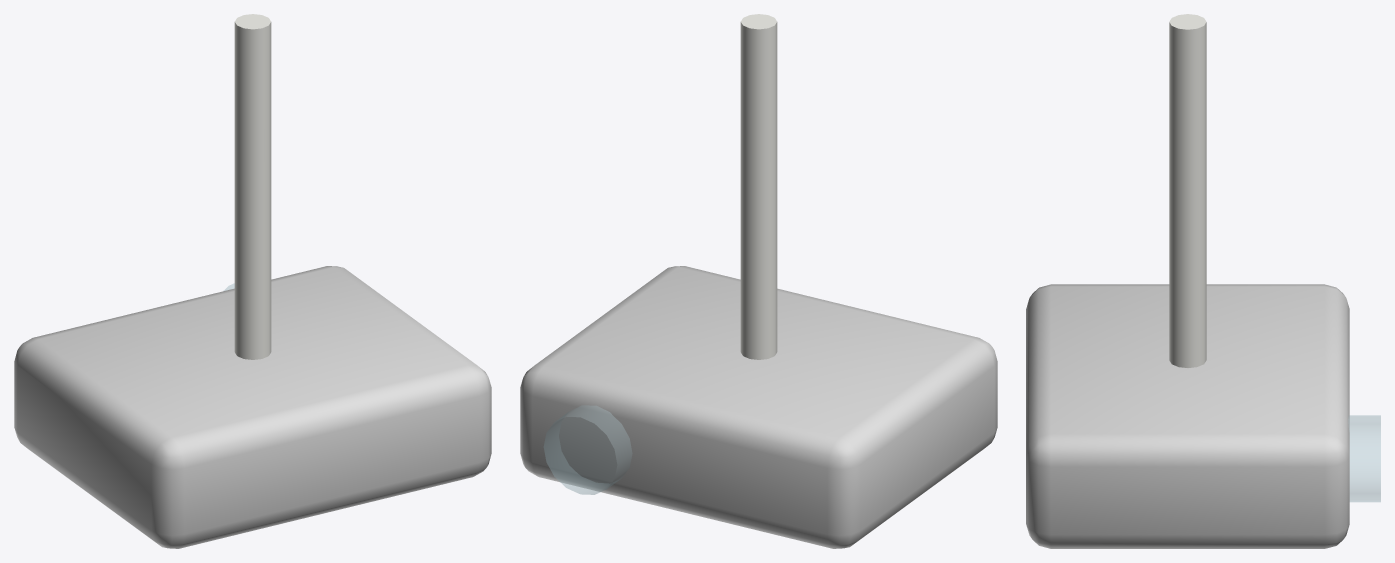
Rendered from school.av.projector.glb.
3 views of the same model, side by side, from view 1: azimuth 30°, elevation 25°; view 2: azimuth 150°, elevation 25°; view 3: azimuth 270°, elevation 25° (orthographic). The views are drawn at different scales.
Parts seen in each view (by area): view 1: main__plastic_white, main__paint_white; view 2: main__plastic_white, main__paint_white, main__glass; view 3: main__plastic_white, main__paint_white, main__glass.
Boxes of the visible parts, x1=… form: main__plastic_white: x1=14, y1=266, x2=491, y2=548; main__paint_white: x1=234, y1=14, x2=271, y2=359; main__plastic_white: x1=520, y1=266, x2=997, y2=548; main__paint_white: x1=740, y1=14, x2=777, y2=359; main__glass: x1=544, y1=405, x2=631, y2=494; main__plastic_white: x1=1026, y1=284, x2=1349, y2=548; main__paint_white: x1=1169, y1=14, x2=1206, y2=367; main__glass: x1=1348, y1=415, x2=1380, y2=501.
Bounding box in the file's own units: 0.32 × 0.4 × 0.285.
